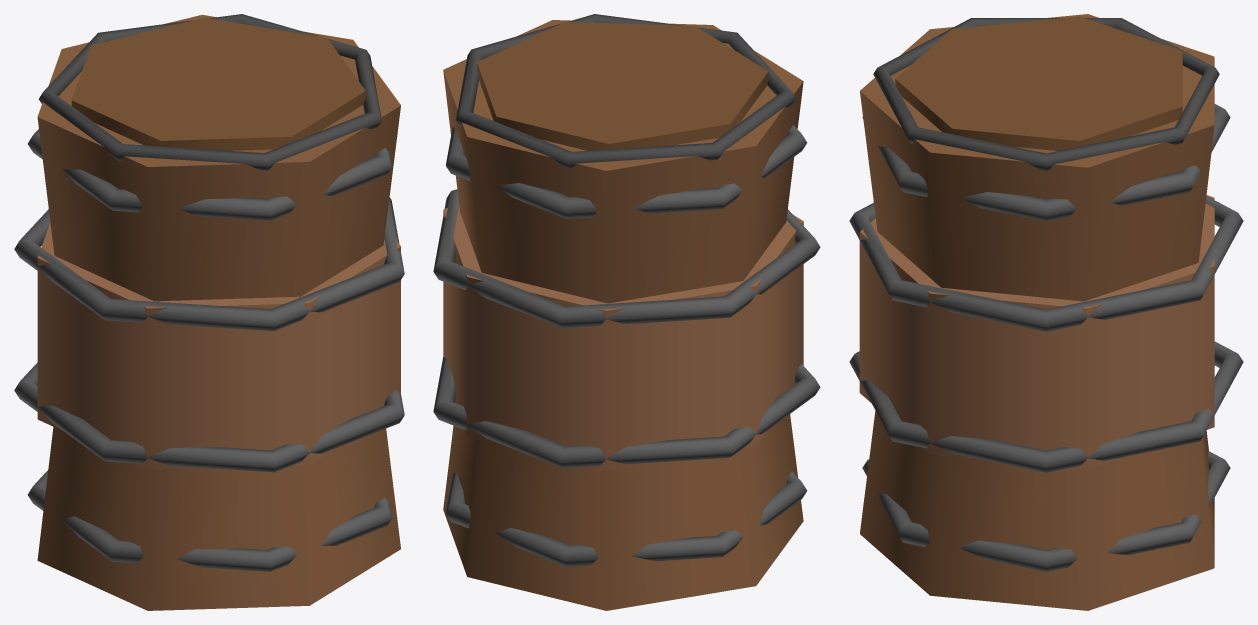
File: wooden-barrel.glb
The picture shows the model from 3 angles, left to right: view 1: azimuth 30°, elevation 25°; view 2: azimuth 150°, elevation 25°; view 3: azimuth 270°, elevation 25°; orthographic projection.
Visible parts, largest first — view 1: Mesh_BarrelMid, Mesh_BarrelTop, Mesh_BarrelBottom, Mesh_Lid, Mesh_BandUpperMid, Mesh_RimTop, Mesh_BandLowerMid, Mesh_BandBottom, Mesh_BandTop; view 2: Mesh_BarrelMid, Mesh_BarrelTop, Mesh_BarrelBottom, Mesh_Lid, Mesh_BandUpperMid, Mesh_BandLowerMid, Mesh_RimTop, Mesh_BandBottom, Mesh_BandTop; view 3: Mesh_BarrelMid, Mesh_BarrelTop, Mesh_BarrelBottom, Mesh_Lid, Mesh_BandUpperMid, Mesh_BandLowerMid, Mesh_RimTop, Mesh_BandBottom, Mesh_BandTop.
Boxes of the visible parts, box(x1,y1,x2,y2) form: Mesh_BarrelMid: box(37, 222, 400, 469); Mesh_BarrelTop: box(37, 14, 400, 301); Mesh_BarrelBottom: box(37, 427, 400, 610); Mesh_Lid: box(71, 17, 365, 150); Mesh_BandUpperMid: box(14, 197, 404, 330); Mesh_RimTop: box(38, 14, 381, 170); Mesh_BandLowerMid: box(14, 362, 404, 472); Mesh_BandBottom: box(27, 470, 392, 571); Mesh_BandTop: box(27, 129, 392, 220); Mesh_BarrelMid: box(443, 205, 803, 470); Mesh_BarrelTop: box(443, 20, 803, 303); Mesh_BarrelBottom: box(443, 414, 803, 610); Mesh_Lid: box(477, 22, 768, 150); Mesh_BandUpperMid: box(433, 189, 820, 328); Mesh_BandLowerMid: box(433, 357, 820, 468); Mesh_RimTop: box(456, 14, 796, 169); Mesh_BandBottom: box(445, 471, 807, 566); Mesh_BandTop: box(445, 125, 807, 218); Mesh_BarrelMid: box(859, 195, 1214, 469); Mesh_BarrelTop: box(860, 14, 1214, 301); Mesh_BarrelBottom: box(860, 410, 1214, 610); Mesh_Lid: box(895, 16, 1182, 150); Mesh_BandUpperMid: box(849, 196, 1243, 331); Mesh_BandLowerMid: box(849, 341, 1243, 472); Mesh_RimTop: box(873, 18, 1219, 170); Mesh_BandBottom: box(862, 451, 1230, 571); Mesh_BandTop: box(862, 104, 1230, 221).
Bounding box in the file's own units: 0.8649 × 1.13 × 0.8872.
